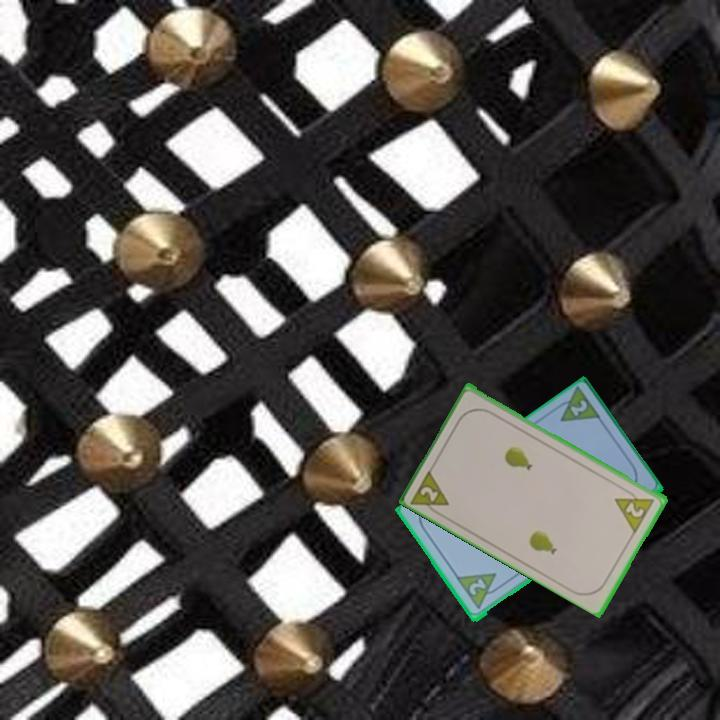2p: (408, 464, 453, 520), (611, 485, 658, 534), (549, 385, 604, 425), (465, 575, 489, 599)
